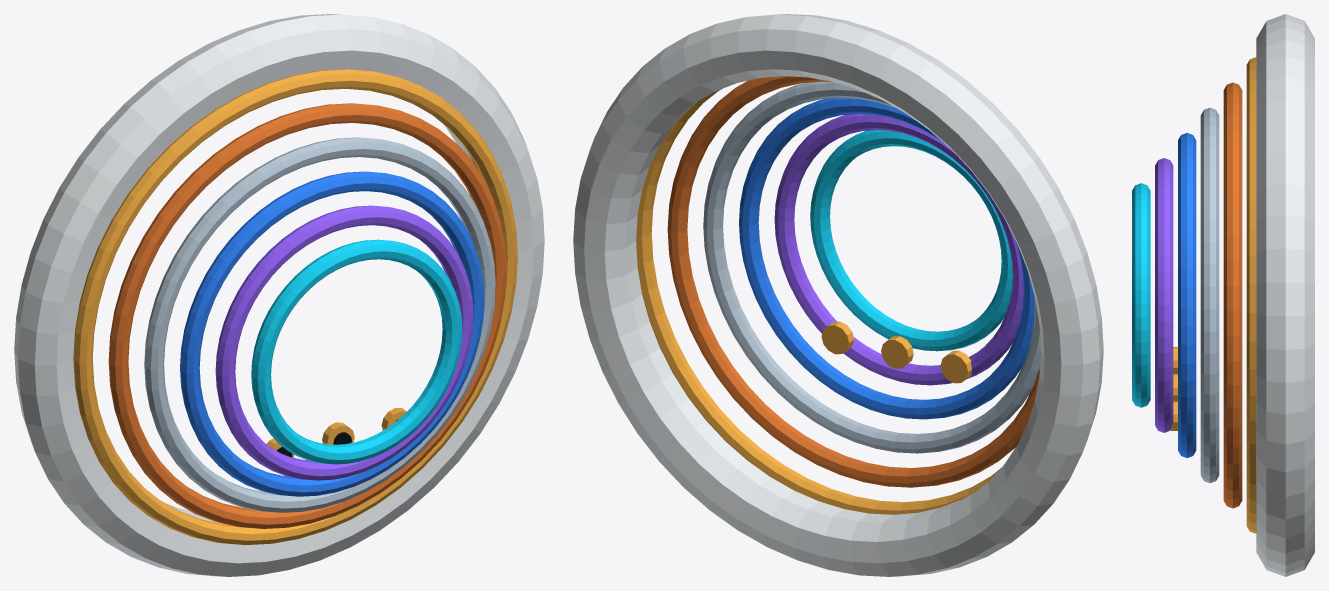
File: 36_L90_AnnularDischargeChamberCutaway.fbx
3 views of the same model, side by side, from view 1: azimuth 30°, elevation 25°; view 2: azimuth 150°, elevation 25°; view 3: azimuth 270°, elevation 25° (orthographic). The views are drawn at different scales.
Visible parts, largest first — view 1: L90_AnnularDischargeChamberCutaway_Part_0000, L90_AnnularDischargeChamberCutaway_Part_0001, L90_AnnularDischargeChamberCutaway_Part_0002, L90_AnnularDischargeChamberCutaway_Part_0003, L90_AnnularDischargeChamberCutaway_Part_0004, L90_AnnularDischargeChamberCutaway_Part_0005, L90_AnnularDischargeChamberCutaway_Part_0006; view 2: L90_AnnularDischargeChamberCutaway_Part_0000, L90_AnnularDischargeChamberCutaway_Part_0003, L90_AnnularDischargeChamberCutaway_Part_0002, L90_AnnularDischargeChamberCutaway_Part_0004, L90_AnnularDischargeChamberCutaway_Part_0005, L90_AnnularDischargeChamberCutaway_Part_0001, L90_AnnularDischargeChamberCutaway_Part_0006, L90_AnnularDischargeChamberCutaway_Part_0011, L90_AnnularDischargeChamberCutaway_Part_0009, L90_AnnularDischargeChamberCutaway_Part_0007; view 3: L90_AnnularDischargeChamberCutaway_Part_0000, L90_AnnularDischargeChamberCutaway_Part_0002, L90_AnnularDischargeChamberCutaway_Part_0003, L90_AnnularDischargeChamberCutaway_Part_0004, L90_AnnularDischargeChamberCutaway_Part_0001, L90_AnnularDischargeChamberCutaway_Part_0005, L90_AnnularDischargeChamberCutaway_Part_0006.
Part boxes in pixels (<box>): L90_AnnularDischargeChamberCutaway_Part_0000: <box>14,14,544,576</box>; L90_AnnularDischargeChamberCutaway_Part_0001: <box>73,69,517,544</box>; L90_AnnularDischargeChamberCutaway_Part_0002: <box>108,103,506,528</box>; L90_AnnularDischargeChamberCutaway_Part_0003: <box>144,137,495,512</box>; L90_AnnularDischargeChamberCutaway_Part_0004: <box>180,171,484,496</box>; L90_AnnularDischargeChamberCutaway_Part_0005: <box>215,205,473,480</box>; L90_AnnularDischargeChamberCutaway_Part_0006: <box>251,239,462,464</box>; L90_AnnularDischargeChamberCutaway_Part_0000: <box>573,14,1103,576</box>; L90_AnnularDischargeChamberCutaway_Part_0003: <box>703,81,1040,453</box>; L90_AnnularDischargeChamberCutaway_Part_0002: <box>667,76,1039,487</box>; L90_AnnularDischargeChamberCutaway_Part_0004: <box>739,97,1034,419</box>; L90_AnnularDischargeChamberCutaway_Part_0005: <box>774,114,1023,385</box>; L90_AnnularDischargeChamberCutaway_Part_0001: <box>636,89,1000,514</box>; L90_AnnularDischargeChamberCutaway_Part_0006: <box>810,130,1012,351</box>; L90_AnnularDischargeChamberCutaway_Part_0011: <box>821,321,854,354</box>; L90_AnnularDischargeChamberCutaway_Part_0009: <box>881,336,913,368</box>; L90_AnnularDischargeChamberCutaway_Part_0007: <box>940,350,971,383</box>; L90_AnnularDischargeChamberCutaway_Part_0000: <box>1256,14,1314,576</box>; L90_AnnularDischargeChamberCutaway_Part_0002: <box>1223,82,1242,508</box>; L90_AnnularDischargeChamberCutaway_Part_0003: <box>1200,107,1219,483</box>; L90_AnnularDischargeChamberCutaway_Part_0004: <box>1178,133,1196,457</box>; L90_AnnularDischargeChamberCutaway_Part_0001: <box>1246,57,1256,533</box>; L90_AnnularDischargeChamberCutaway_Part_0005: <box>1155,158,1173,432</box>; L90_AnnularDischargeChamberCutaway_Part_0006: <box>1132,183,1150,407</box>.
Size of the model in its own units: 246 by 246 by 79.84.
